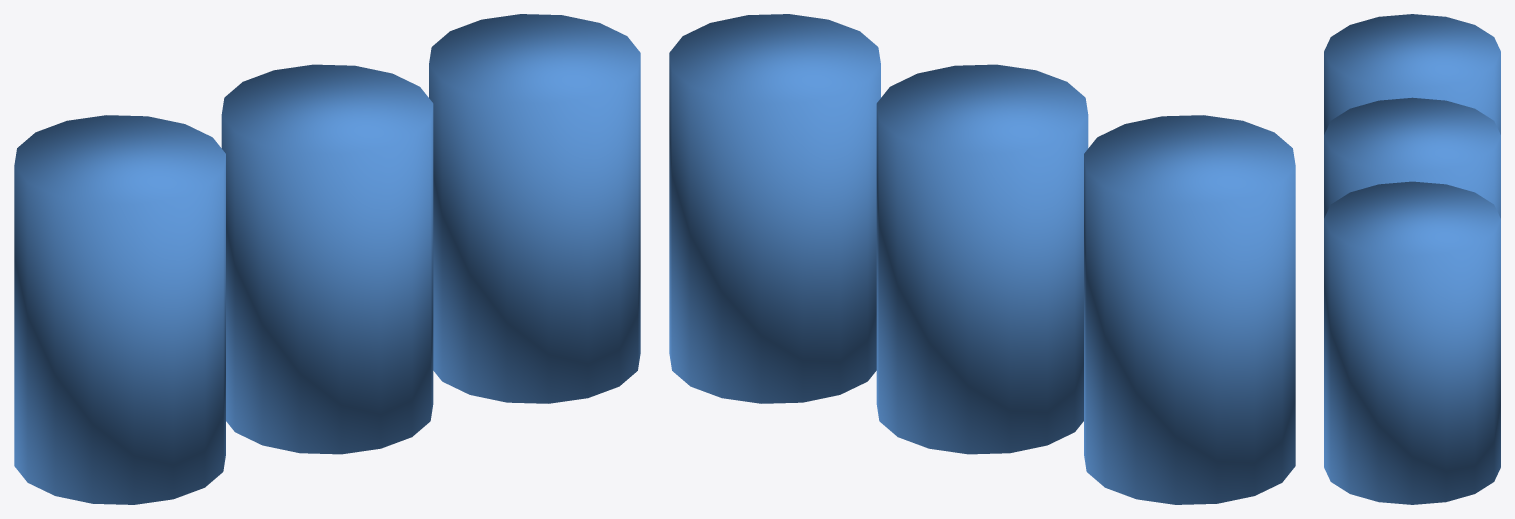
File: life_drums.glb
3 views of the same model, side by side, from view 1: azimuth 30°, elevation 25°; view 2: azimuth 150°, elevation 25°; view 3: azimuth 270°, elevation 25° (orthographic). The views are drawn at different scales.
Visible parts, largest first — view 1: Drum; view 2: Drum; view 3: Drum.
Boxes of the visible parts, bbox=[...] form: Drum: bbox=[14, 14, 640, 504]; Drum: bbox=[669, 14, 1295, 504]; Drum: bbox=[1324, 14, 1500, 504].
Size of the model in its own units: 1.88 by 0.9 by 0.58.
